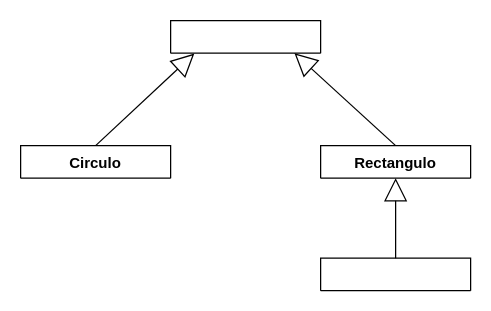
Image size: 491x311. Some labels were removed from this diagram. The centre of each missing label's shape, as x and y in pixels:
"Cuadrado" belongs at pixel 395 274.
"Figura" belongs at pixel 245 36.
